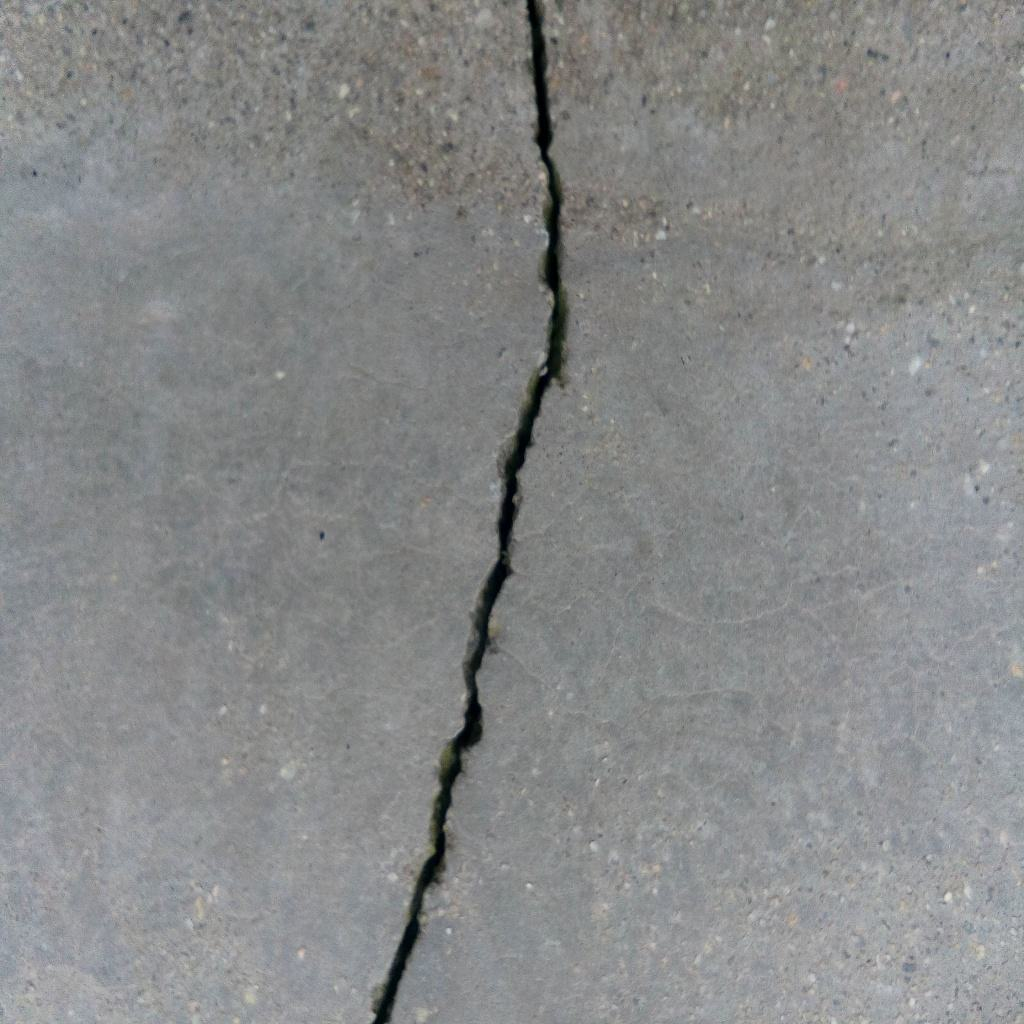Crack: (371, 1, 568, 1024)
